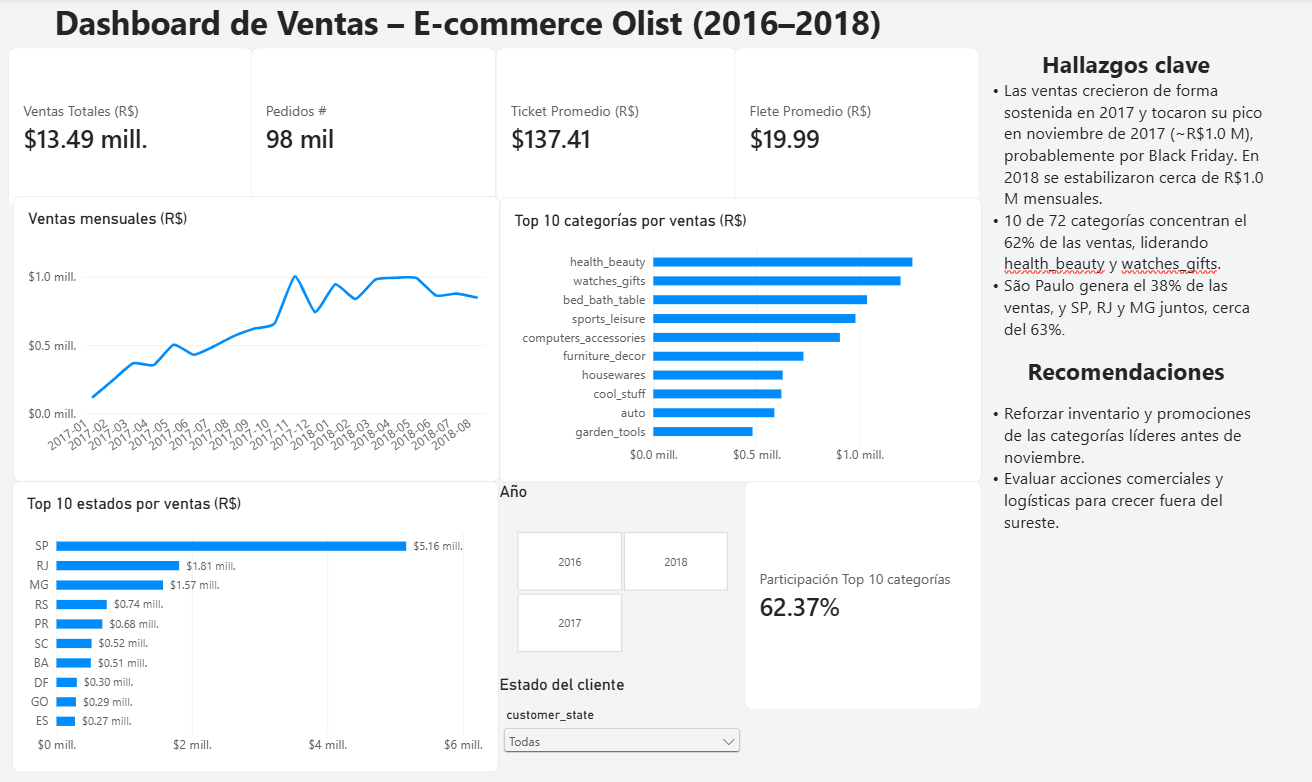

The page's visual inventory and layout, read from the dashboard file:
{"tool":"powerbi","page":{"name":"Resumen de Ventas","canvas":[1920,1080],"ordinal":0},"visuals":[{"type":"textbox","box":[385.5,0,1109.3,76.7],"z":0},{"type":"cardVisual","fields":{"Data":["Articulos.Ventas Totales"]},"box":[333.3,54,280,183.3],"z":1000},{"type":"cardVisual","fields":{"Data":["Articulos.Pedidos #"]},"box":[610,54,280,183.3],"z":2000},{"type":"cardVisual","fields":{"Data":["Articulos.Ticket Promedio"]},"box":[890,54,276.7,183.3],"z":3000},{"type":"cardVisual","fields":{"Data":["Articulos.Flete Promedio"]},"box":[1163.3,54,280,183.3],"z":4000},{"type":"lineChart","title":"Ventas mensuales (R$)","fields":{"Category":["Calendario.AnioMes"],"Y":["Articulos.Ventas Totales"]},"box":[338.7,224.7,556,326],"z":5000},{"type":"clusteredBarChart","title":"Top 10 categorías por ventas (R$)","fields":{"Category":["Productos.Categoria"],"Y":["Articulos.Ventas Totales"]},"box":[893.8,225.1,551.1,325.6],"z":6000},{"type":"cardVisual","title":"Participación Top 10 categorías","fields":{"Data":["Articulos.Participación Top 10 %"]},"box":[1174.3,550,271.4,261.4],"z":7000},{"type":"clusteredBarChart","title":"Top 10 estados por ventas (R$)","fields":{"Category":["Clientes.customer_state"],"Y":["Articulos.Ventas Totales"]},"box":[337.1,550,555.7,332.9],"z":8000},{"type":"slicer","title":"Año","fields":{"Values":["Calendario.Anio"]},"box":[894.3,551.4,280,195.7],"z":8001},{"type":"slicer","title":"Estado del cliente","fields":{"Values":["Clientes.customer_state"]},"box":[894.3,771.4,280,111.4],"z":8002},{"type":"textbox","box":[1442.9,54.3,335,695],"z":8003}]}

Visuals, with their boxes on the page's 1920x1080 design canvas (x1, y1, x2, y2). These are canvas units, not pixel positions in the 1312x782 screenshot, which may show the page scaled, cropped or inside an application window:
textbox: 386/0/1495/77
cardVisual - Articulos.Ventas Totales: 333/54/613/237
cardVisual - Articulos.Pedidos #: 610/54/890/237
cardVisual - Articulos.Ticket Promedio: 890/54/1167/237
cardVisual - Articulos.Flete Promedio: 1163/54/1443/237
"Ventas mensuales (R$)" lineChart: 339/225/895/551
"Top 10 categorías por ventas (R$)" clusteredBarChart: 894/225/1445/551
"Participación Top 10 categorías" cardVisual: 1174/550/1446/811
"Top 10 estados por ventas (R$)" clusteredBarChart: 337/550/893/883
"Año" slicer: 894/551/1174/747
"Estado del cliente" slicer: 894/771/1174/883
textbox: 1443/54/1778/749
